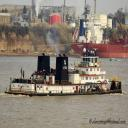tugboat: (5, 26, 125, 98)
